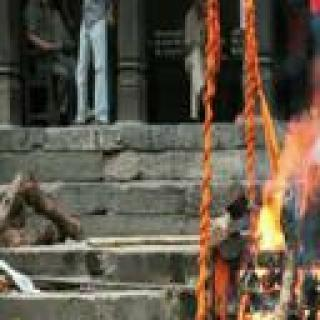fire: (252, 81, 320, 320)
